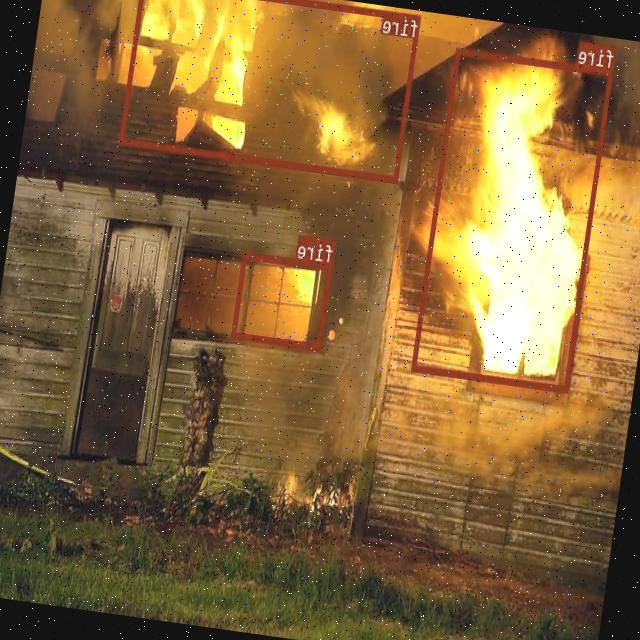fire: (412, 46, 614, 392), (120, 0, 421, 182), (232, 252, 334, 351)
